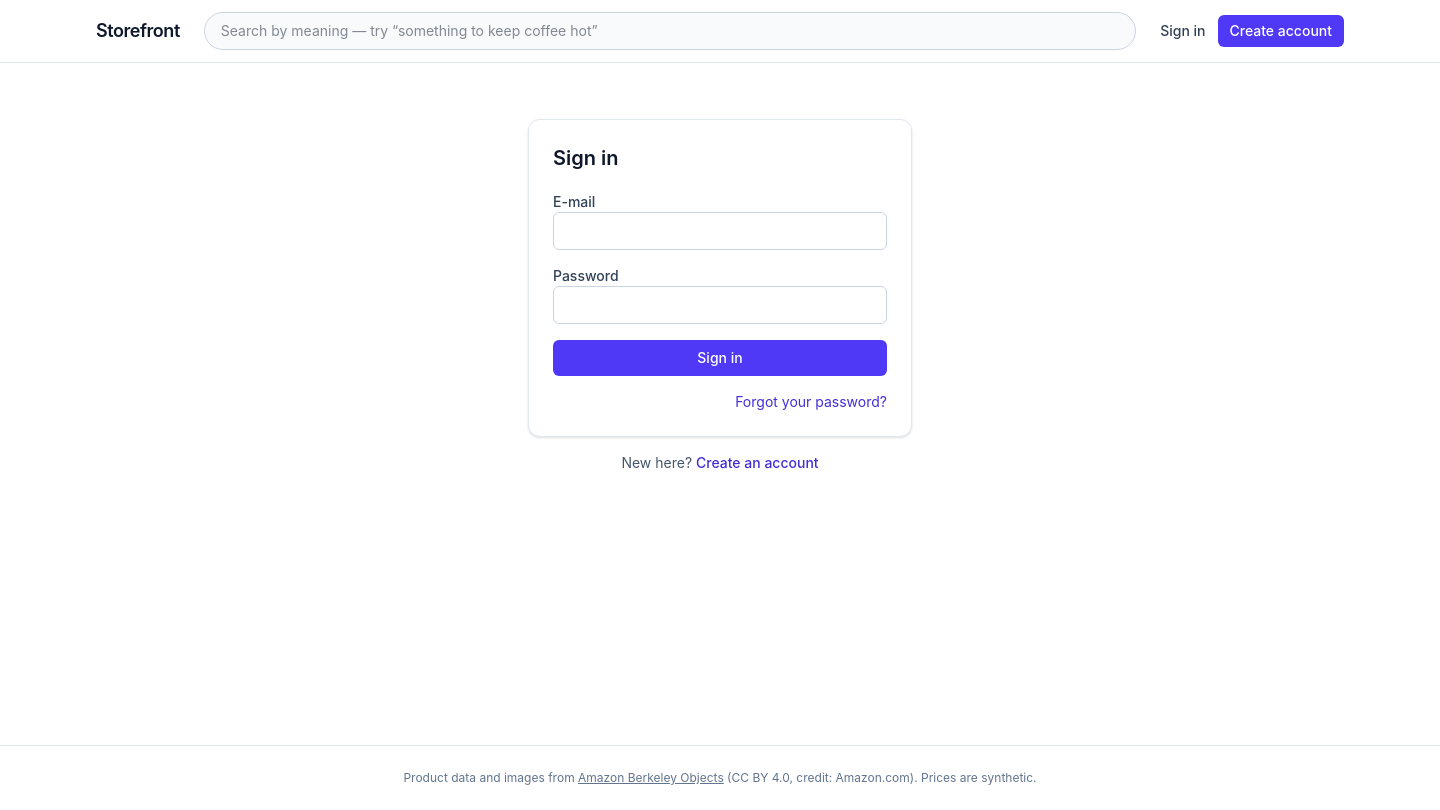
Test case: login › explains bad credentials
Check: the header is shown, box [0,0,1439,63]
Type "bob@gmail.com" into the field labelled "E-mail".
click(720, 231); type("bob@gmail.com")  # box [553,212,887,250]
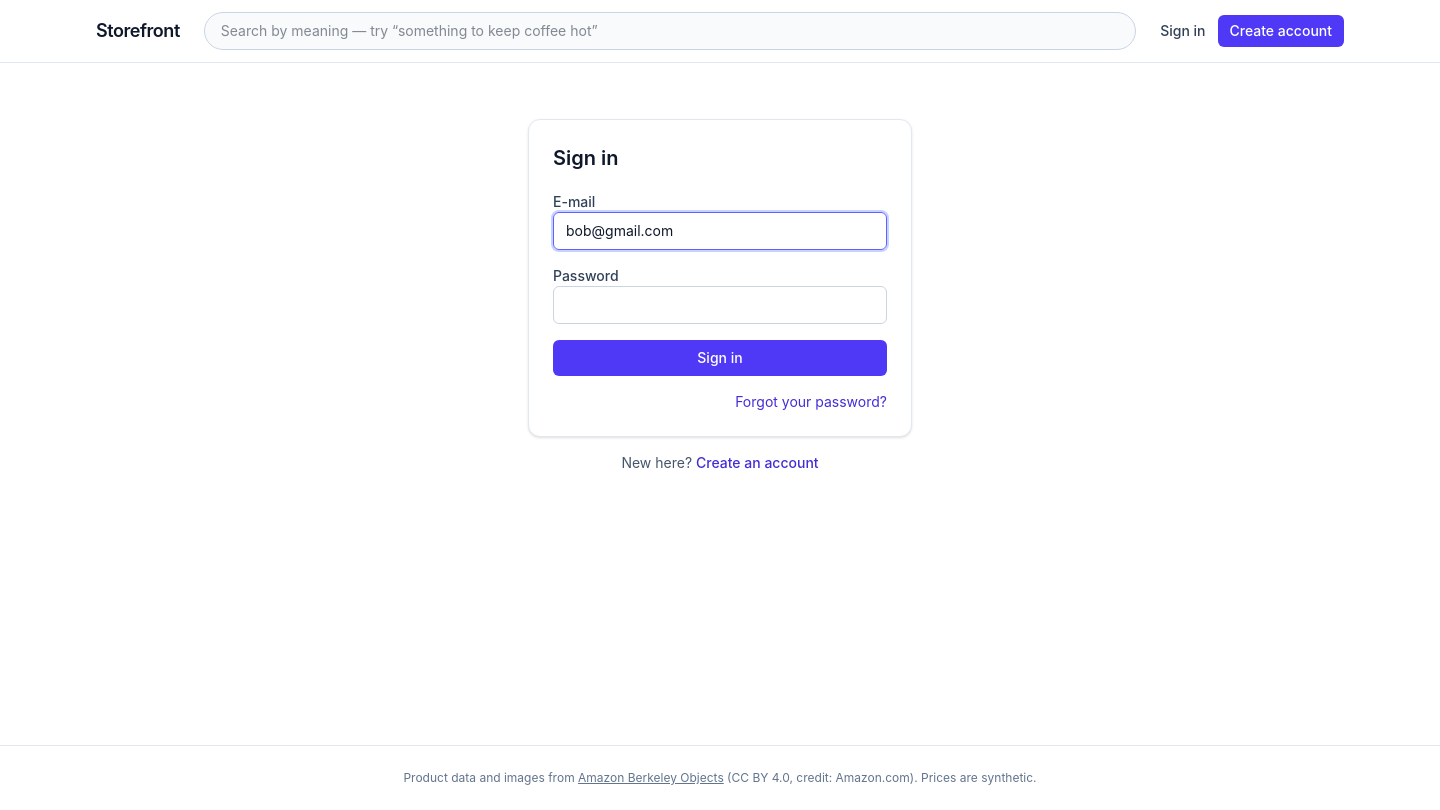
Type "wrong" into the password field labelled "Password".
click(720, 305); type("wrong")  # box [553,286,887,324]
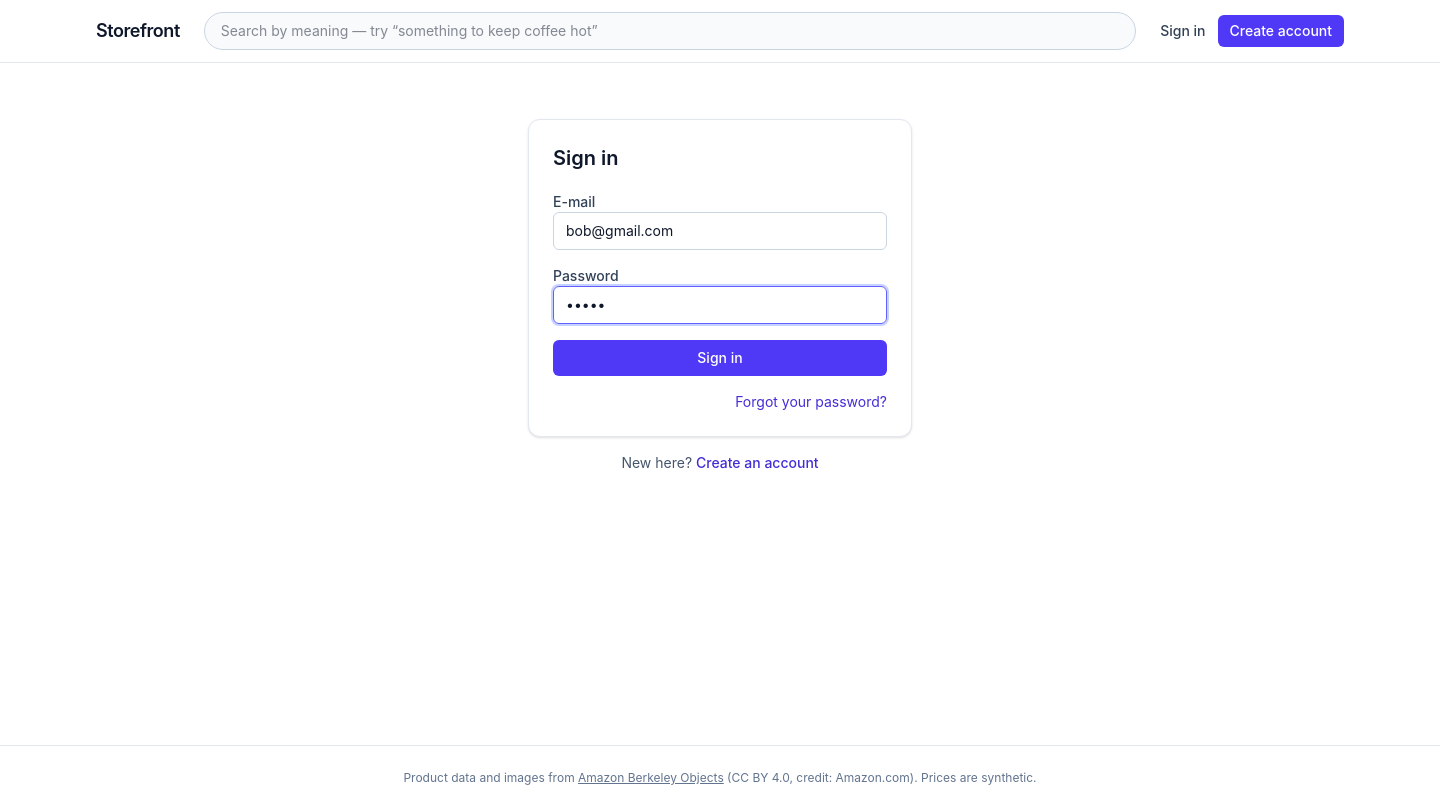
Click the button "Sign in".
click(720, 358)  # box [553,340,887,376]
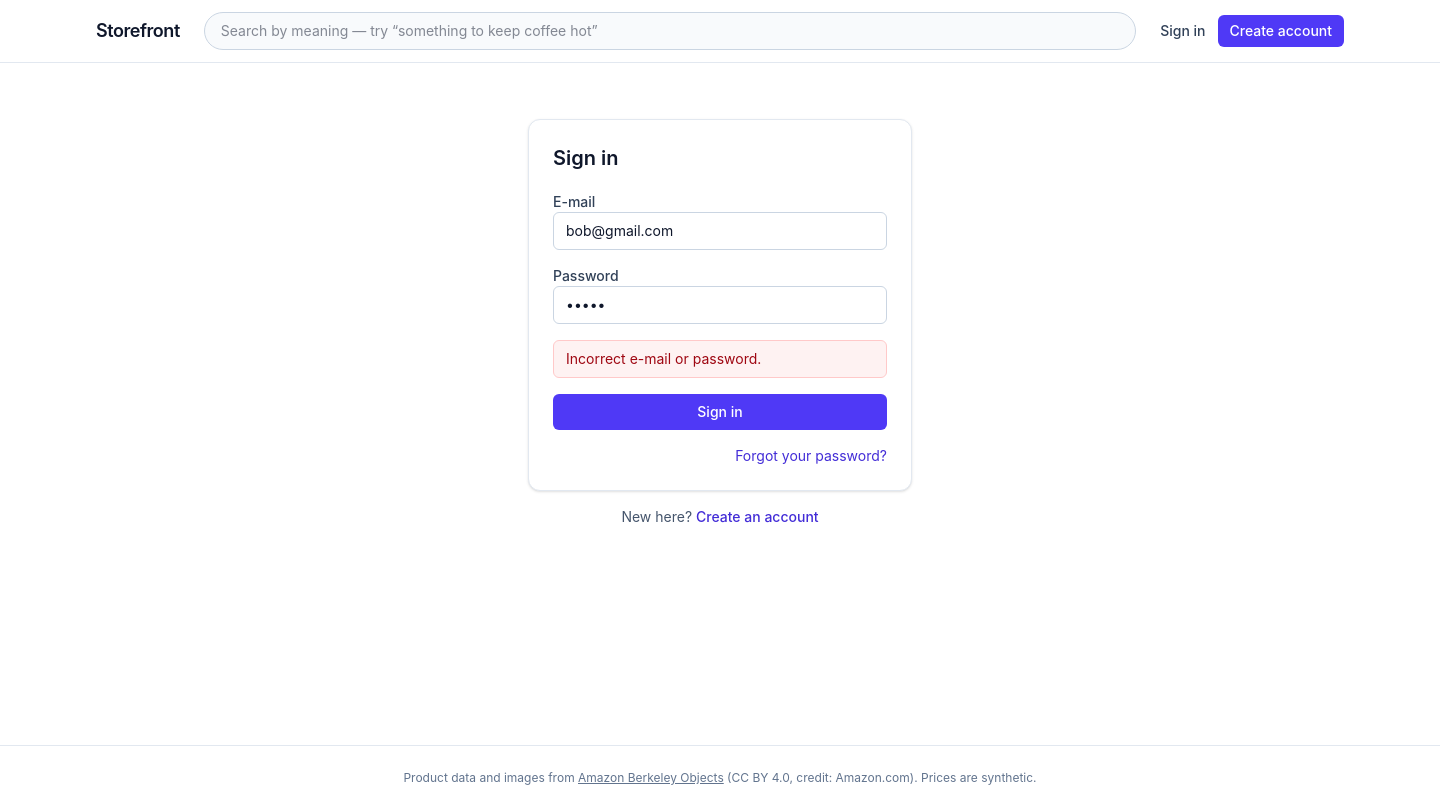
Check: the message reads "Incorrect e-mail or password.", box [566,350,761,367]
